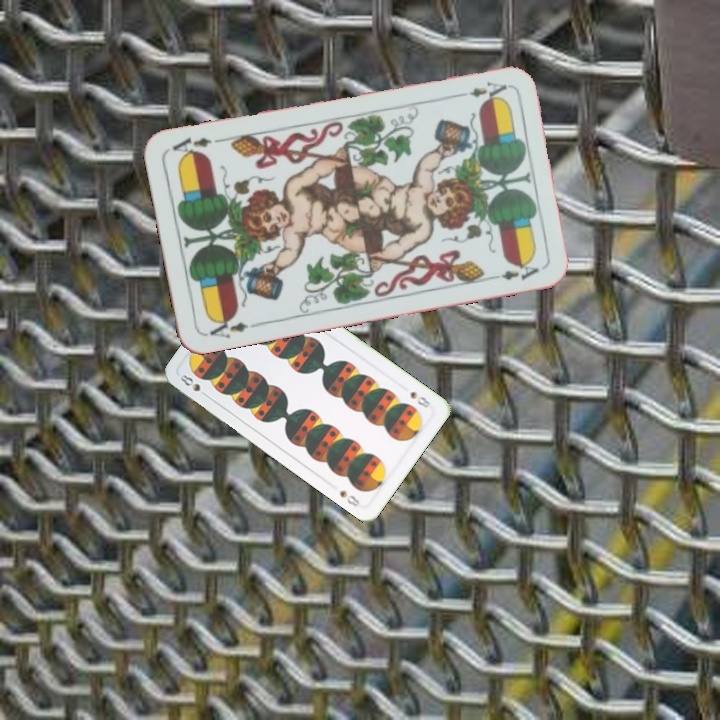EA: (206, 312, 261, 341), (452, 77, 510, 103)
S8: (176, 370, 203, 394), (406, 387, 433, 410)
